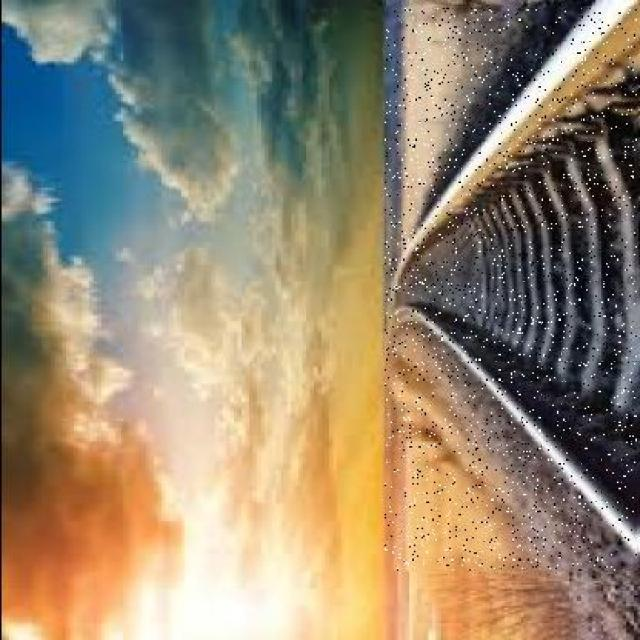rail: (384, 8, 635, 570)
